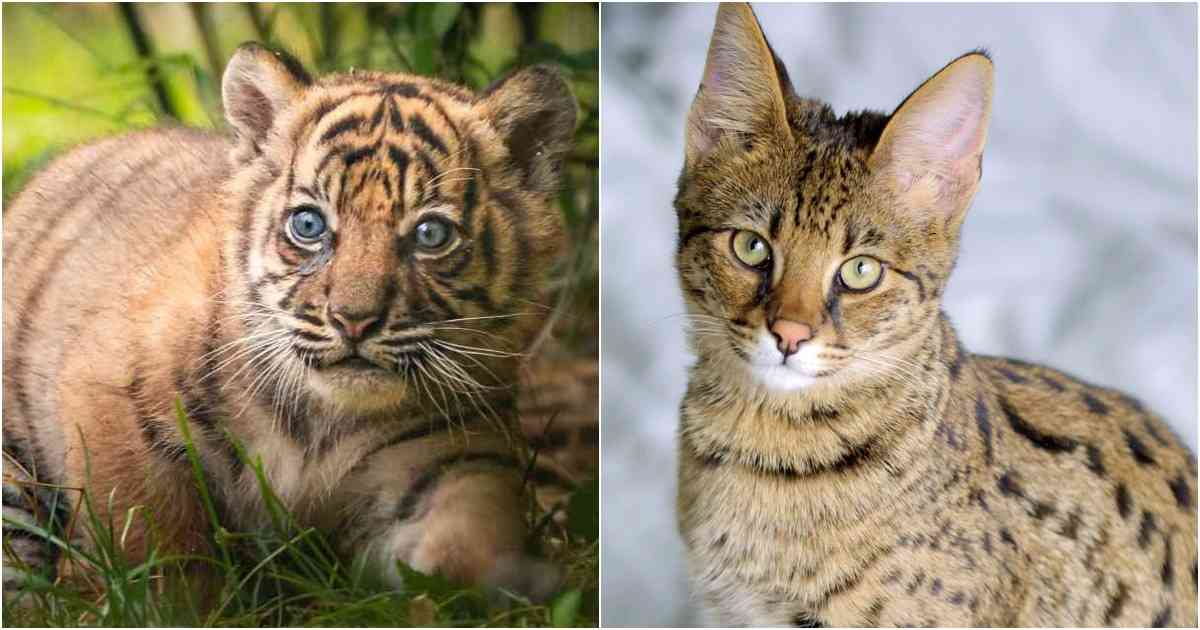Tigrew: (45, 48, 610, 577)
